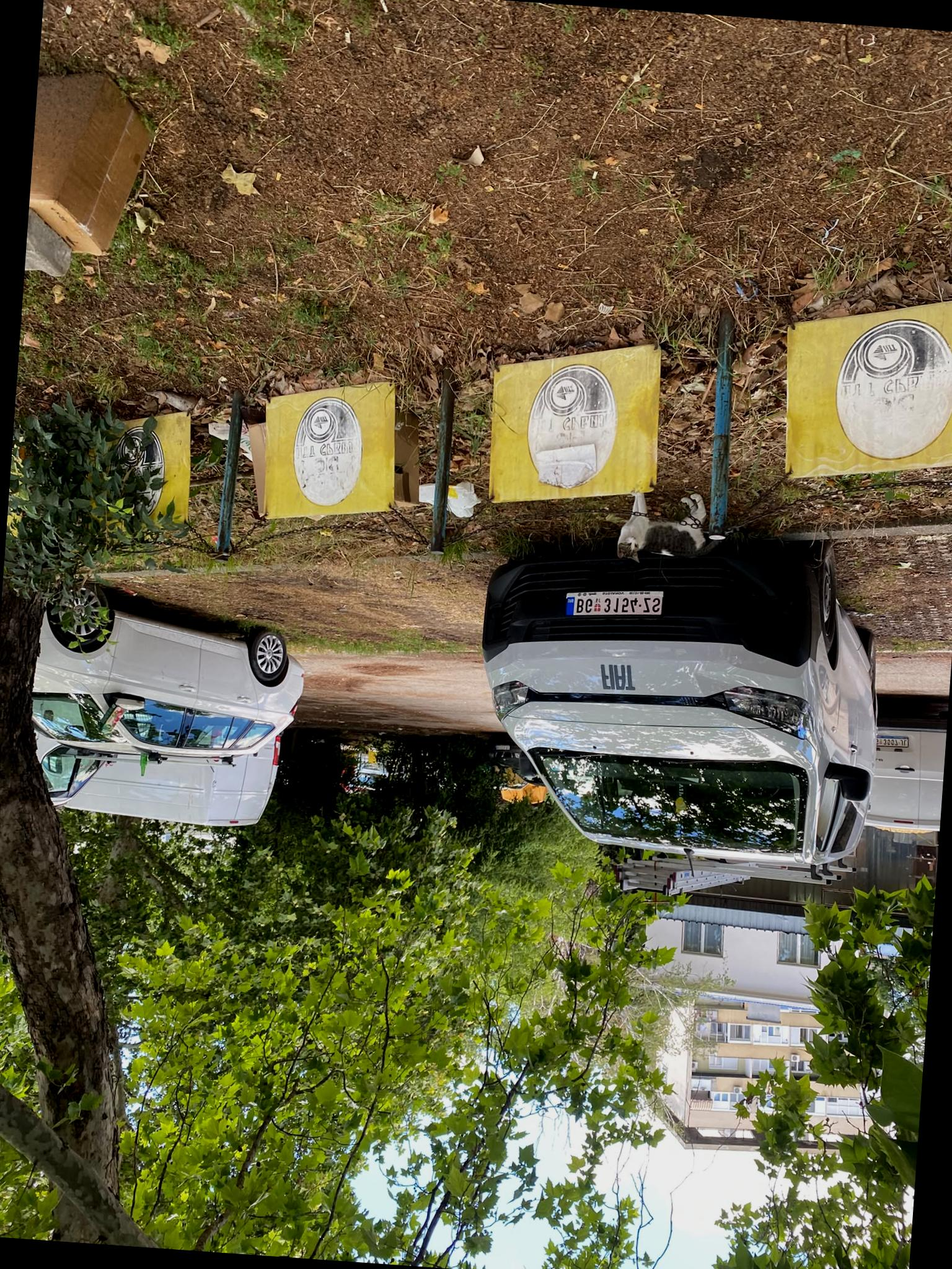macka: (615, 488, 708, 567)
